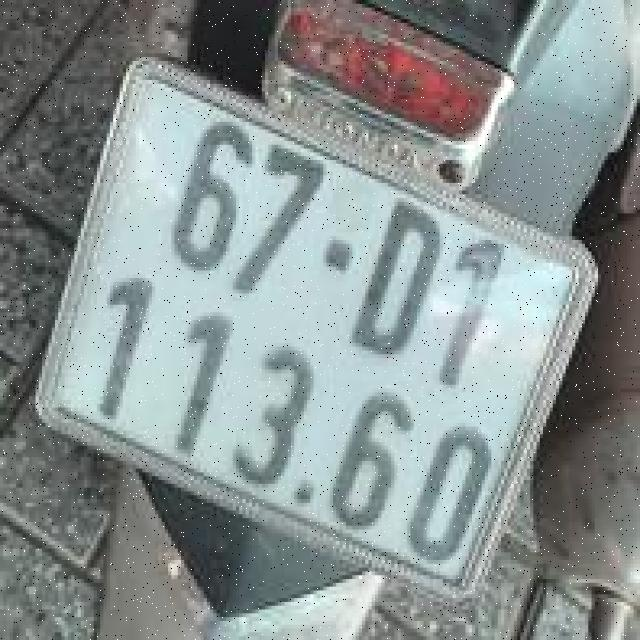0: (401, 410, 499, 575)
1: (418, 229, 512, 400), (156, 298, 242, 468), (78, 260, 163, 430)
3: (224, 330, 327, 499)
6: (160, 109, 264, 300), (319, 374, 427, 541)
7: (221, 132, 331, 319)
D: (340, 187, 457, 378)
